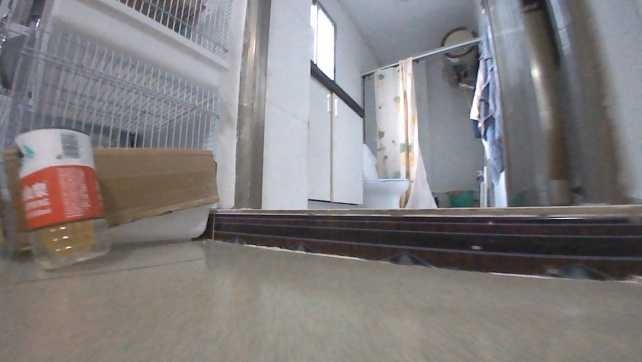bottle: (4, 124, 112, 270)
door_sill: (199, 199, 642, 279)
toilet: (358, 143, 412, 207)
